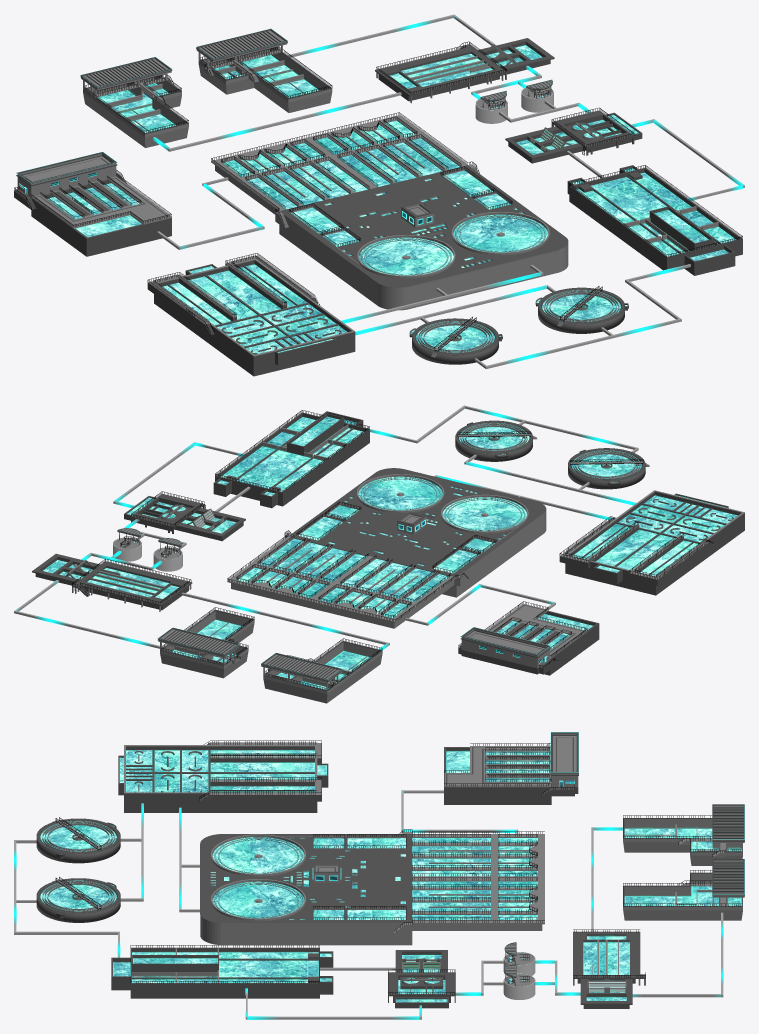
3 renders of one model, top to bottom at view 1: azimuth 30°, elevation 25°; view 2: azimuth 150°, elevation 25°; view 3: azimuth 270°, elevation 25°, orthographic. The views are drawn at different scales.
Visible parts, largest first — view 1: 滤池+二沉池*2, 生化池1, 沉沙池1, 紫外线消毒池, 截流井2.002, 截流井2.001, 粗格栅1, 细格栅1, 滤池+二沉池*2.001, 初沉池2, 初沉池2.001, 生化池1.001 (+10 smaller); view 2: 滤池+二沉池*2, 生化池1, 沉沙池1, 紫外线消毒池, 粗格栅1, 截流井2.001, 截流井2.002, 细格栅1, 滤池+二沉池*2.001, 初沉池2.001, 初沉池2, 生化池1.001 (+10 smaller); view 3: 滤池+二沉池*2, 生化池1, 沉沙池1, 紫外线消毒池, 截流井2.002, 截流井2.001, 粗格栅1, 细格栅1, 初沉池2, 初沉池2.001, 滤池+二沉池*2.001, 生化池1.001 (+7 smaller).
Boxes of the visible parts, x1,y1,x2,y2 form: 滤池+二沉池*2: (211, 112, 568, 310); 生化池1: (147, 253, 355, 376); 沉沙池1: (567, 165, 742, 275); 紫外线消毒池: (14, 151, 171, 256); 截流井2.002: (196, 28, 332, 112); 截流井2.001: (80, 57, 188, 147); 粗格栅1: (375, 38, 554, 103); 细格栅1: (505, 107, 642, 163); 滤池+二沉池*2.001: (226, 122, 547, 273); 初沉池2: (409, 316, 502, 364); 初沉池2.001: (535, 286, 628, 333); 生化池1.001: (173, 270, 332, 347); 滤池+二沉池*2: (227, 468, 546, 628); 生化池1: (559, 490, 744, 595); 沉沙池1: (213, 410, 369, 508); 紫外线消毒池: (458, 601, 599, 675); 粗格栅1: (32, 553, 192, 611); 截流井2.001: (261, 638, 382, 703); 截流井2.002: (157, 607, 254, 678); 细格栅1: (124, 491, 245, 541); 滤池+二沉池*2.001: (241, 479, 526, 617); 初沉池2.001: (455, 420, 537, 461); 初沉池2: (568, 448, 649, 489); 生化池1.001: (577, 497, 721, 571); 滤池+二沉池*2: (200, 829, 544, 945); 生化池1: (118, 740, 328, 812); 沉沙池1: (111, 945, 333, 998); 紫外线消毒池: (444, 732, 578, 804); 截流井2.002: (623, 859, 744, 920); 截流井2.001: (623, 804, 744, 865); 粗格栅1: (573, 929, 645, 1008); 细格栅1: (388, 950, 455, 1008); 初沉池2: (36, 817, 120, 863); 初沉池2.001: (36, 877, 120, 922); 滤池+二沉池*2.001: (232, 837, 536, 919); 生化池1.001: (120, 750, 298, 791).
Bounding box in the file's own units: 259 × 18.36 × 301.
Materials: 49 (6 with a texture image).
